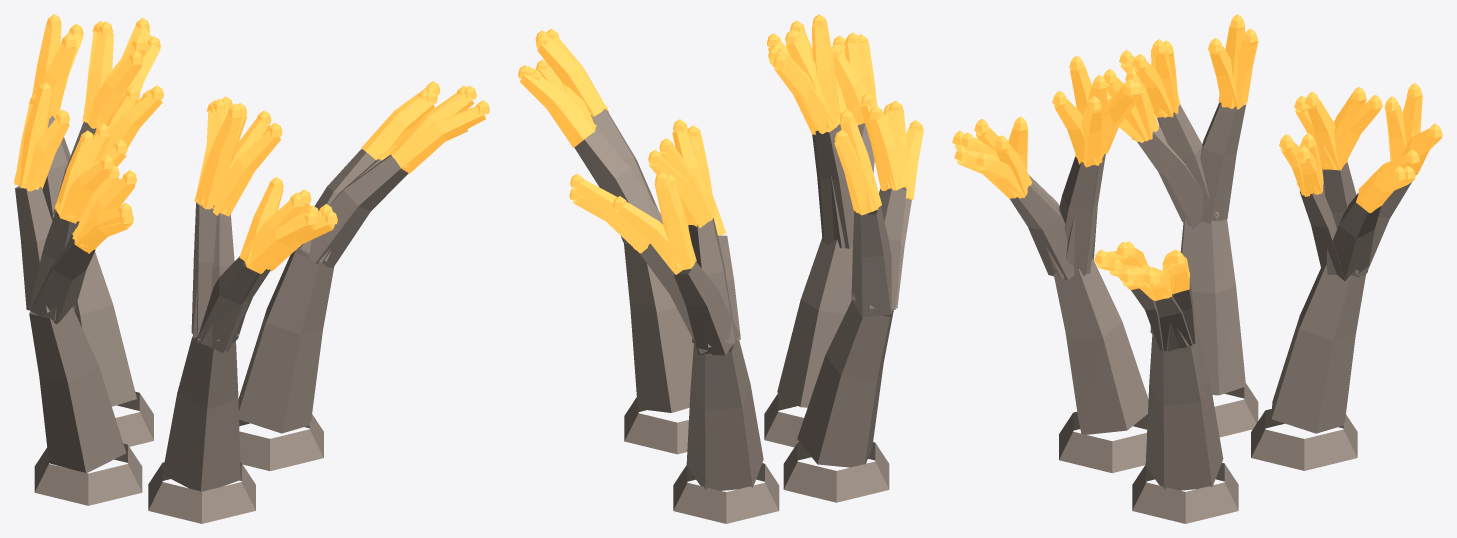
The model's file is coral_v01.glb.
The picture shows the model from 3 angles, left to right: view 1: azimuth 30°, elevation 25°; view 2: azimuth 150°, elevation 25°; view 3: azimuth 270°, elevation 25°; orthographic projection.
Parts seen in each view (by area): view 1: mushroom_coral_flesh_nocol, mushroom_coral_glow_nocol; view 2: mushroom_coral_flesh_nocol, mushroom_coral_glow_nocol; view 3: mushroom_coral_flesh_nocol, mushroom_coral_glow_nocol.
Part boxes in pixels (x1,y1,x2,y2): mushroom_coral_flesh_nocol: (15,115,408,523); mushroom_coral_glow_nocol: (14,14,489,273); mushroom_coral_flesh_nocol: (574,109,911,523); mushroom_coral_glow_nocol: (518,14,923,274); mushroom_coral_flesh_nocol: (1010,102,1411,523); mushroom_coral_glow_nocol: (952,14,1442,300).
Size of the model in its own units: 1.32 by 1.24 by 1.38.
